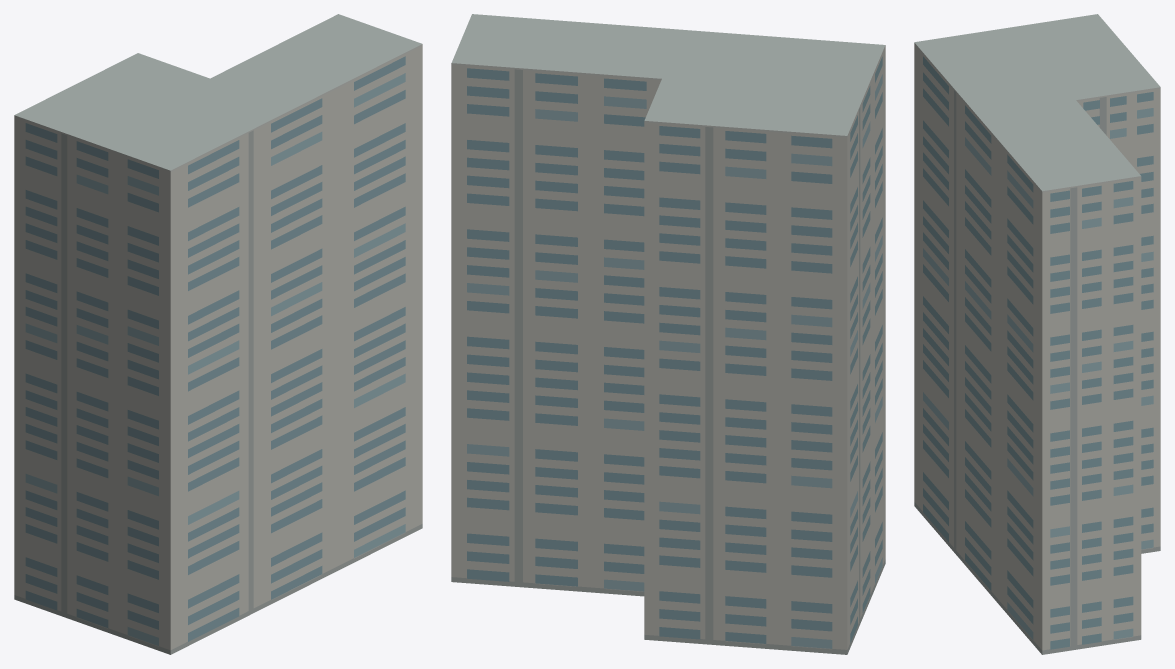
File: residential-0433cb59-4807-4fa4-90dc-e7cffe918bb9.glb
The picture shows the model from 3 angles, left to right: view 1: azimuth 30°, elevation 25°; view 2: azimuth 150°, elevation 25°; view 3: azimuth 270°, elevation 25°; orthographic projection. The views are drawn at different scales.
Visible parts, largest first — view 1: residential-0433cb59-4807-4fa4-90dc-e7cffe918bb9.tmp; view 2: residential-0433cb59-4807-4fa4-90dc-e7cffe918bb9.tmp; view 3: residential-0433cb59-4807-4fa4-90dc-e7cffe918bb9.tmp.
Part boxes in pixels (x1,y1,x2,y2): residential-0433cb59-4807-4fa4-90dc-e7cffe918bb9.tmp: (14, 14, 422, 654); residential-0433cb59-4807-4fa4-90dc-e7cffe918bb9.tmp: (451, 14, 885, 654); residential-0433cb59-4807-4fa4-90dc-e7cffe918bb9.tmp: (914, 14, 1160, 654).
Size of the model in its own units: 67.23 by 82 by 39.53.
